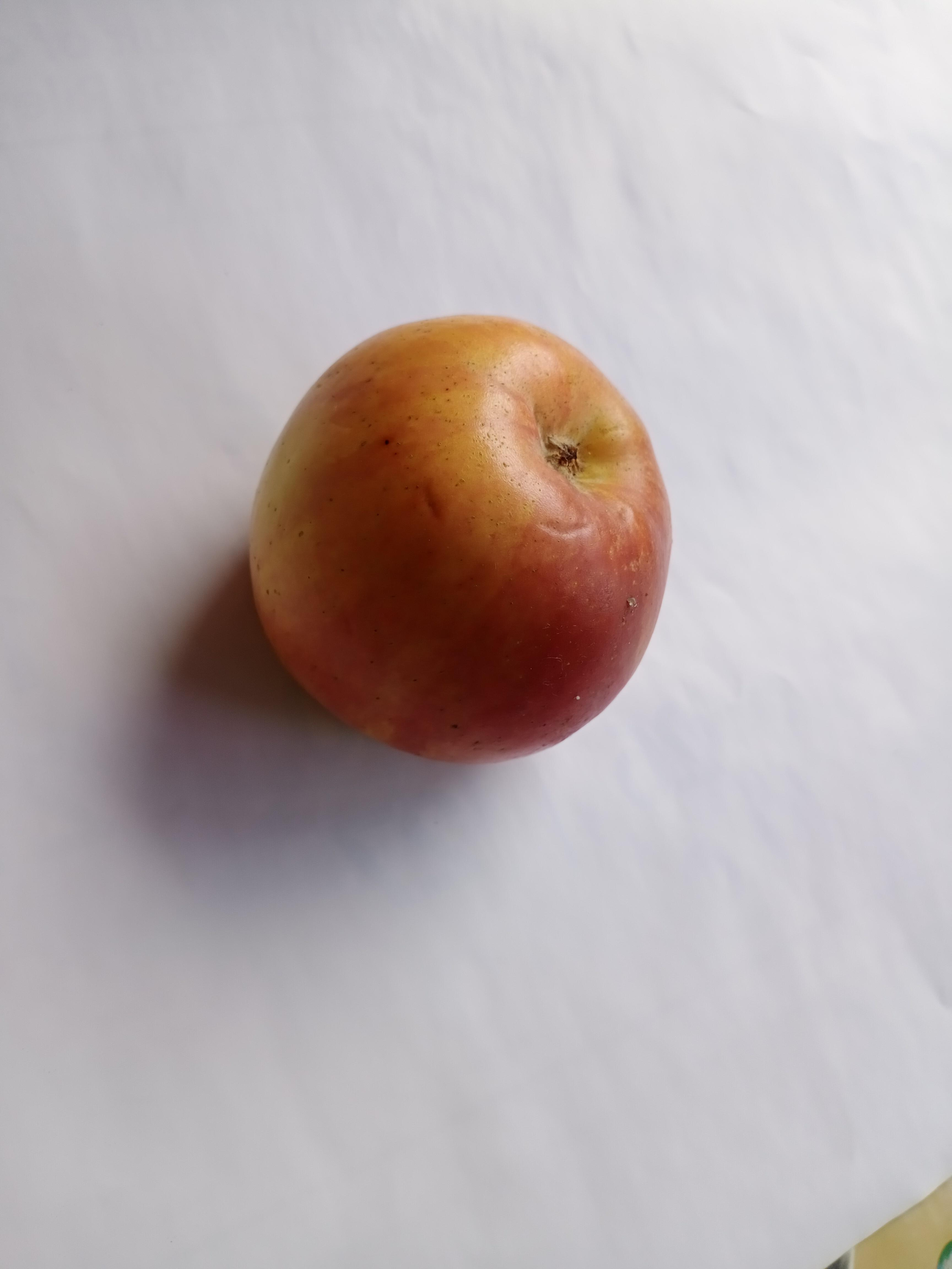Apple Ripe: (223, 295, 691, 787)
